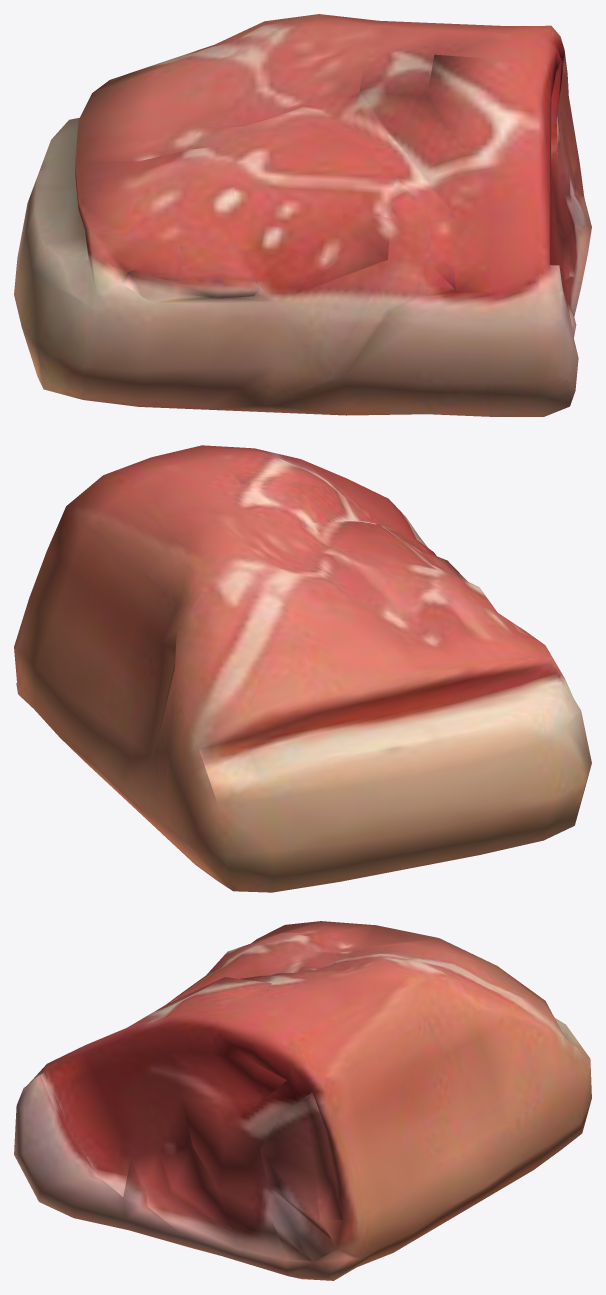
The model's file is pork.glb.
The picture shows the model from 3 angles, top to bottom: view 1: azimuth 30°, elevation 25°; view 2: azimuth 150°, elevation 25°; view 3: azimuth 270°, elevation 25°; orthographic projection. The views are drawn at different scales.
Parts seen in each view (by area): view 1: Pork; view 2: Pork; view 3: Pork.
Boxes of the visible parts, <box> form: Pork: <box>14,14,591,416</box>; Pork: <box>14,445,591,892</box>; Pork: <box>14,921,591,1280</box>.
Bounding box in the file's own units: 1.9 × 0.8615 × 1.93.
1 material, 1 textured.
